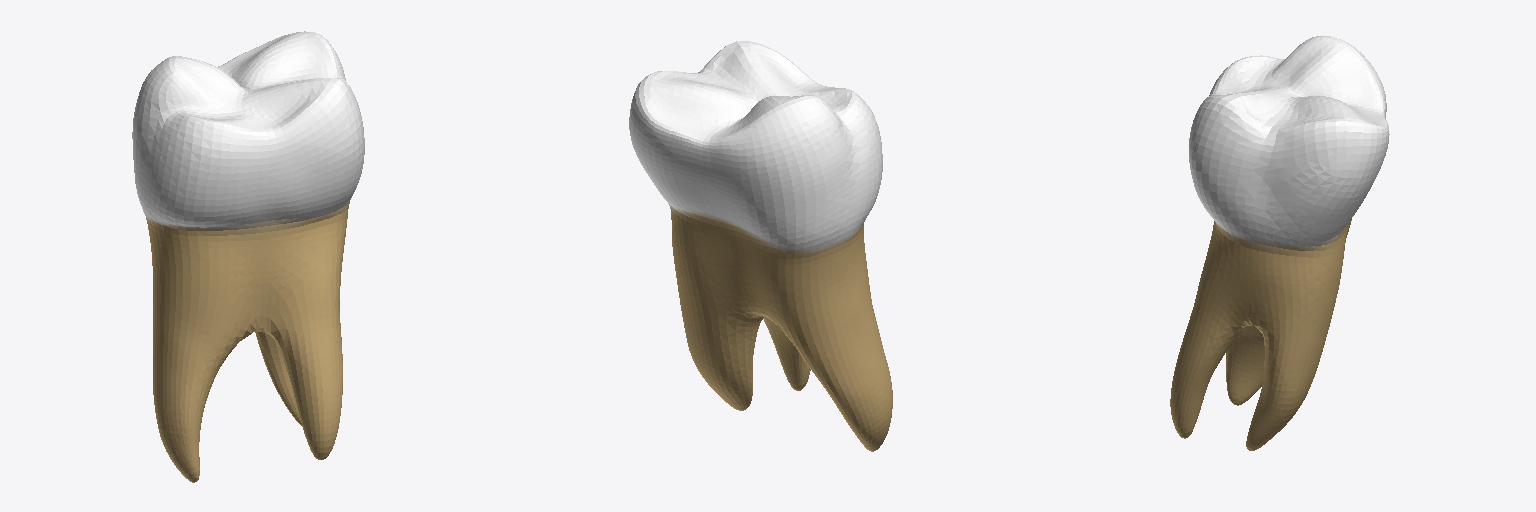
The picture shows the model from 3 angles: view 1: azimuth 30°, elevation 25°; view 2: azimuth 150°, elevation 25°; view 3: azimuth 270°, elevation 25°; orthographic projection.
Visible parts, largest first — view 1: outer; view 2: outer; view 3: outer.
Part boxes in pixels (bbox=[...]): outer: bbox=[132, 31, 364, 482]; outer: bbox=[629, 41, 892, 451]; outer: bbox=[1170, 36, 1389, 450].
Bounding box in the file's own units: 4.6 × 7.82 × 4.08.
Materials: 2 (1 with a texture image).